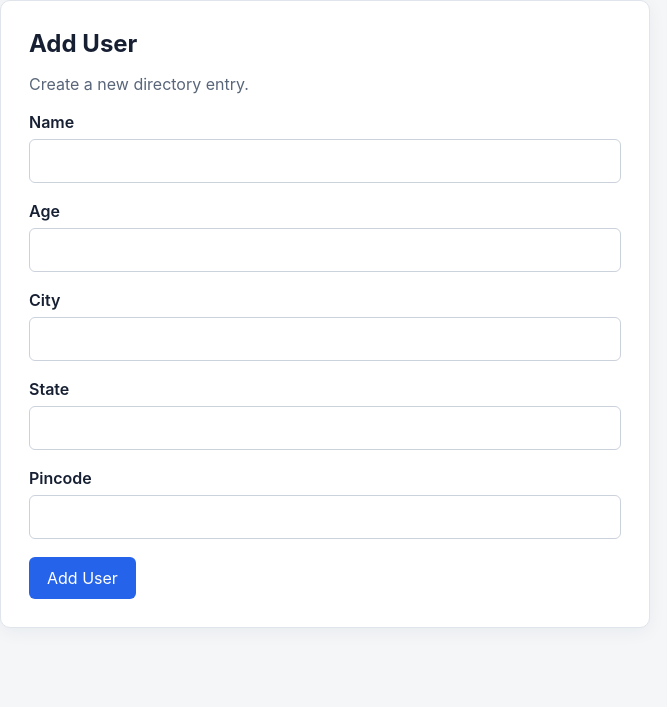
AddUserPage › submits valid data and redirects
This screenshot has width=667, height=707.
Type "Jane Doe" into the field labelled "Name" at (325, 161), box [29,139,621,183]
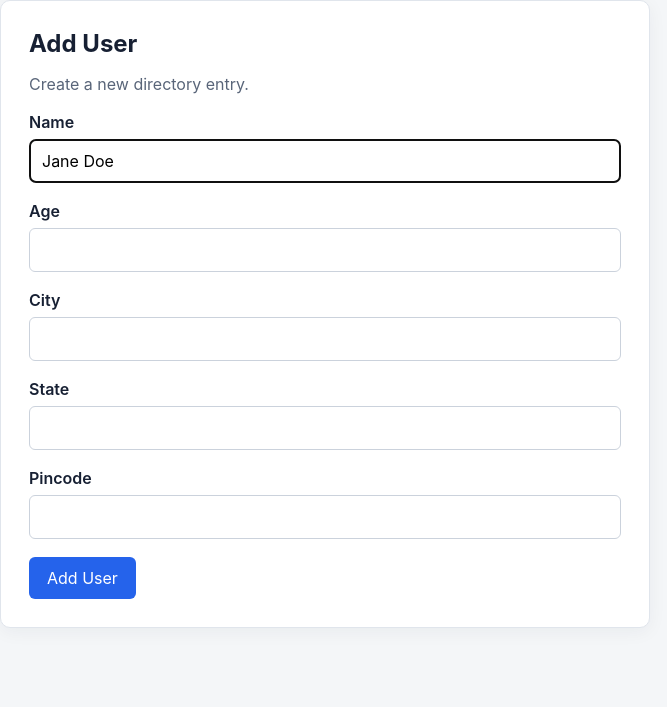
Type "40" into the number field labelled "Age" at (325, 250), box [29,228,621,272]
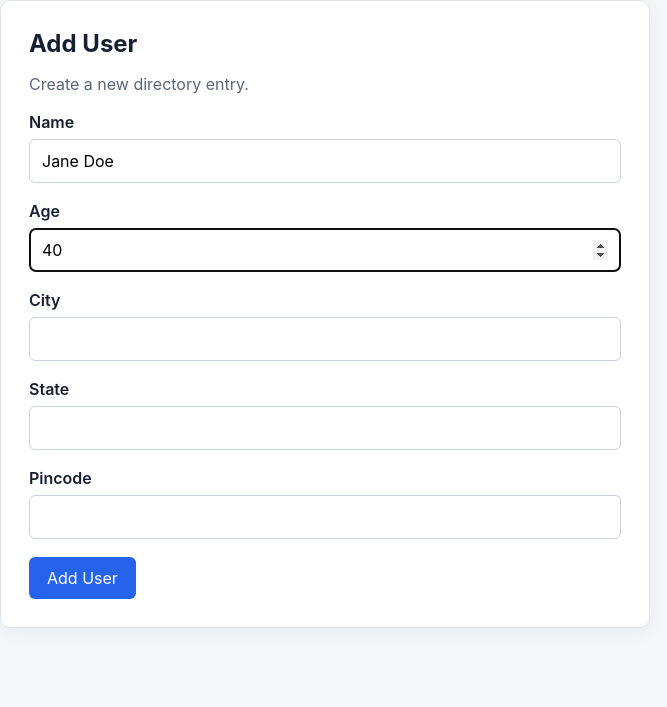
Type "Melbourne" into the field labelled "City" at (325, 339), box [29,317,621,361]
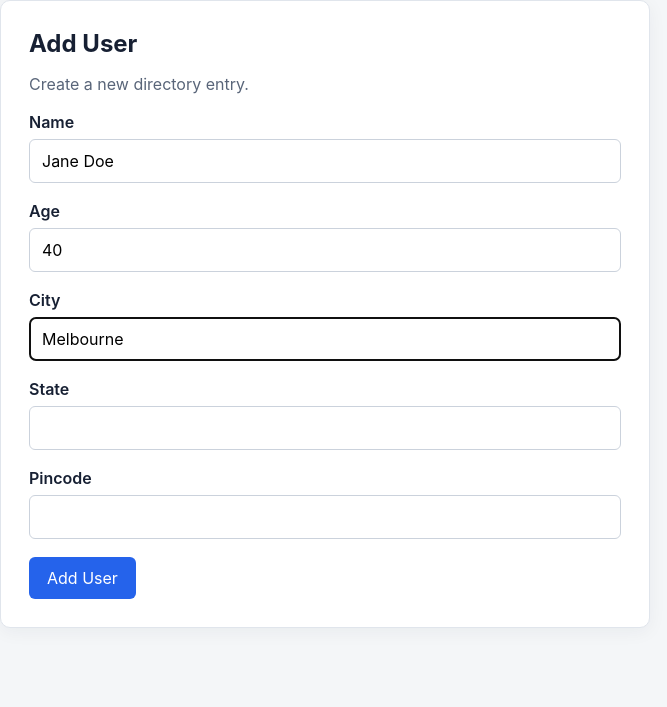
Type "VIC" into the field labelled "State" at (325, 428), box [29,406,621,450]
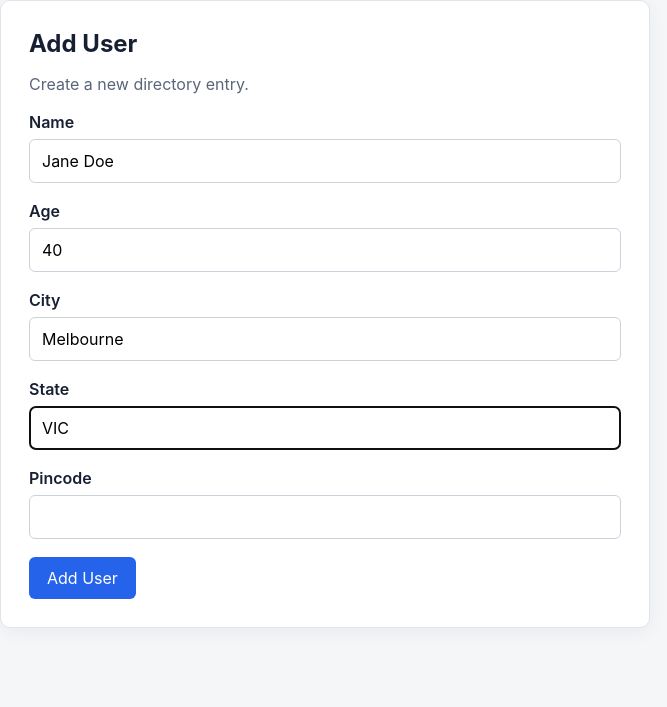
Type "3000" into the field labelled "Pincode" at (325, 517), box [29,495,621,539]
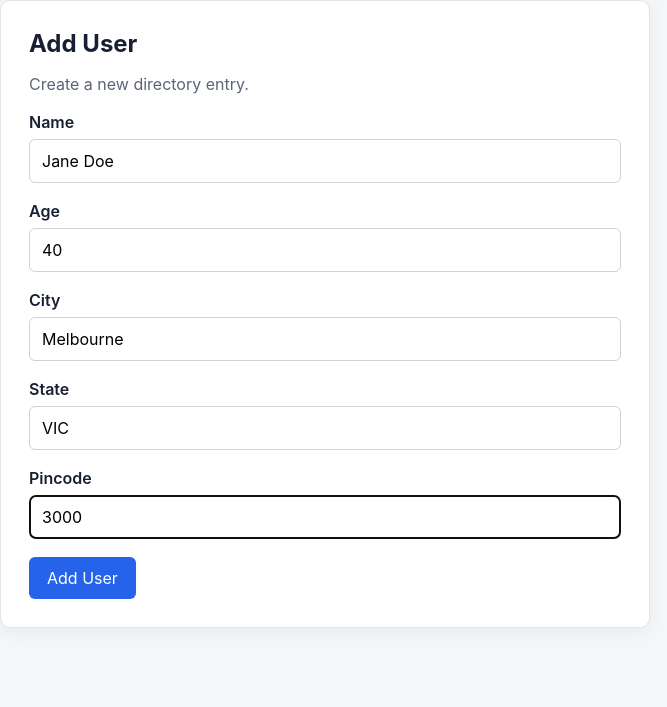
Click the button "Add User" at (82, 578), box [29,557,136,599]
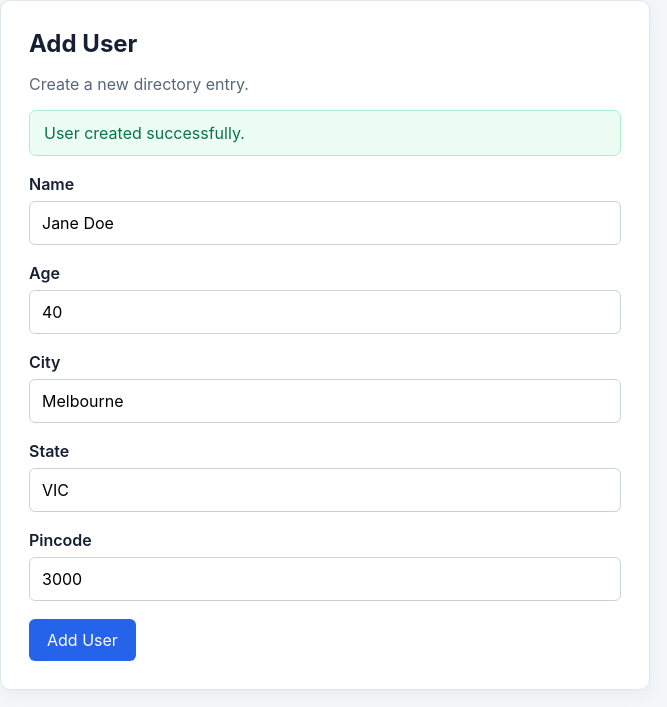
Expected: the message reads "User created successfully.", [44,123,245,143]
